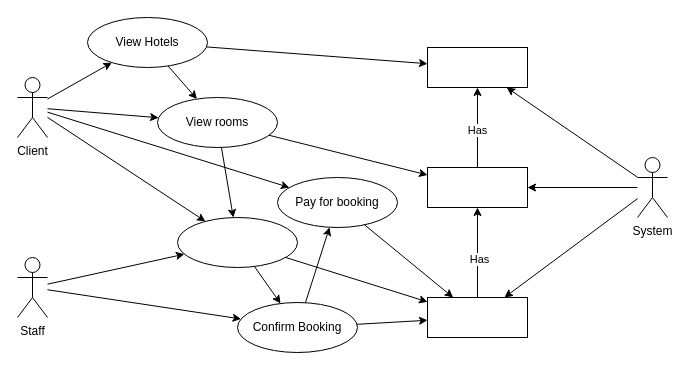
Image size: 690x370. Some labels were removed from this diagram. The centre of each missing label's shape, as x and y in pixels:
"Bookings" goes at (477,317).
"Hotels" goes at (477,67).
"Make Booking" goes at (237,242).
"Rooms" goes at (477,187).
